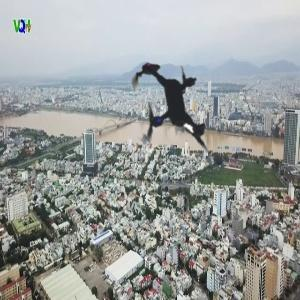drone: (90, 28, 250, 188)
